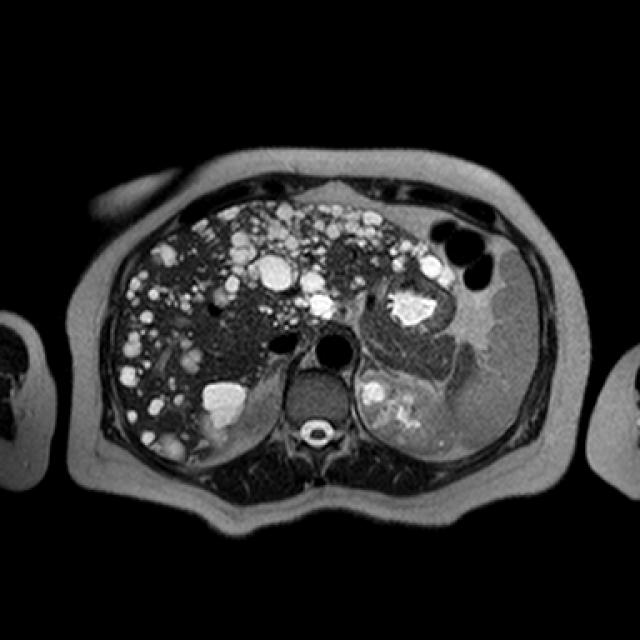sag: (231, 375, 281, 438)
sol: (358, 369, 458, 453)
